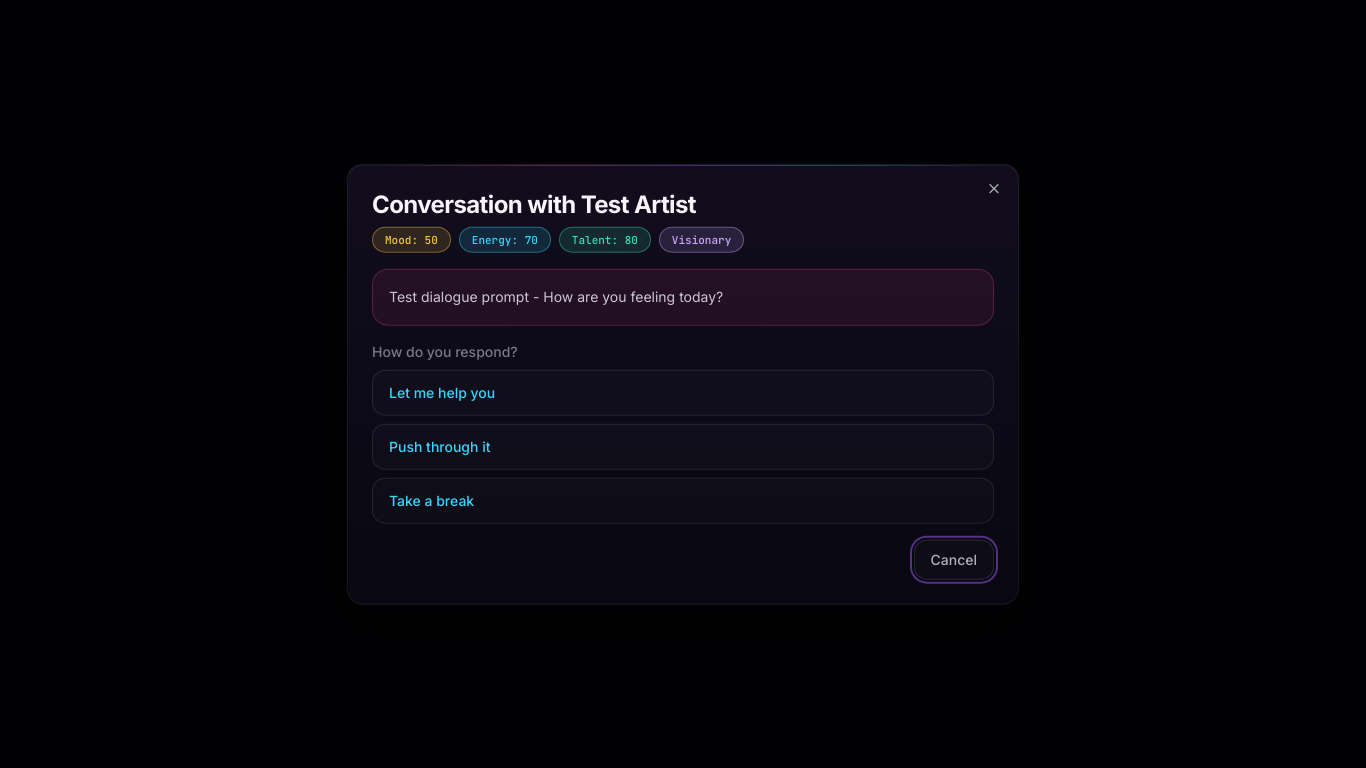
it: ArtistDialogueModal › Complete State › should show success icon and message
This screenshot has width=1366, height=768.
Expected: the text "Let me help you" is shown, [389, 382, 495, 402]
Click the button "Let me help you". click: (442, 392)
box: [372, 369, 994, 415]
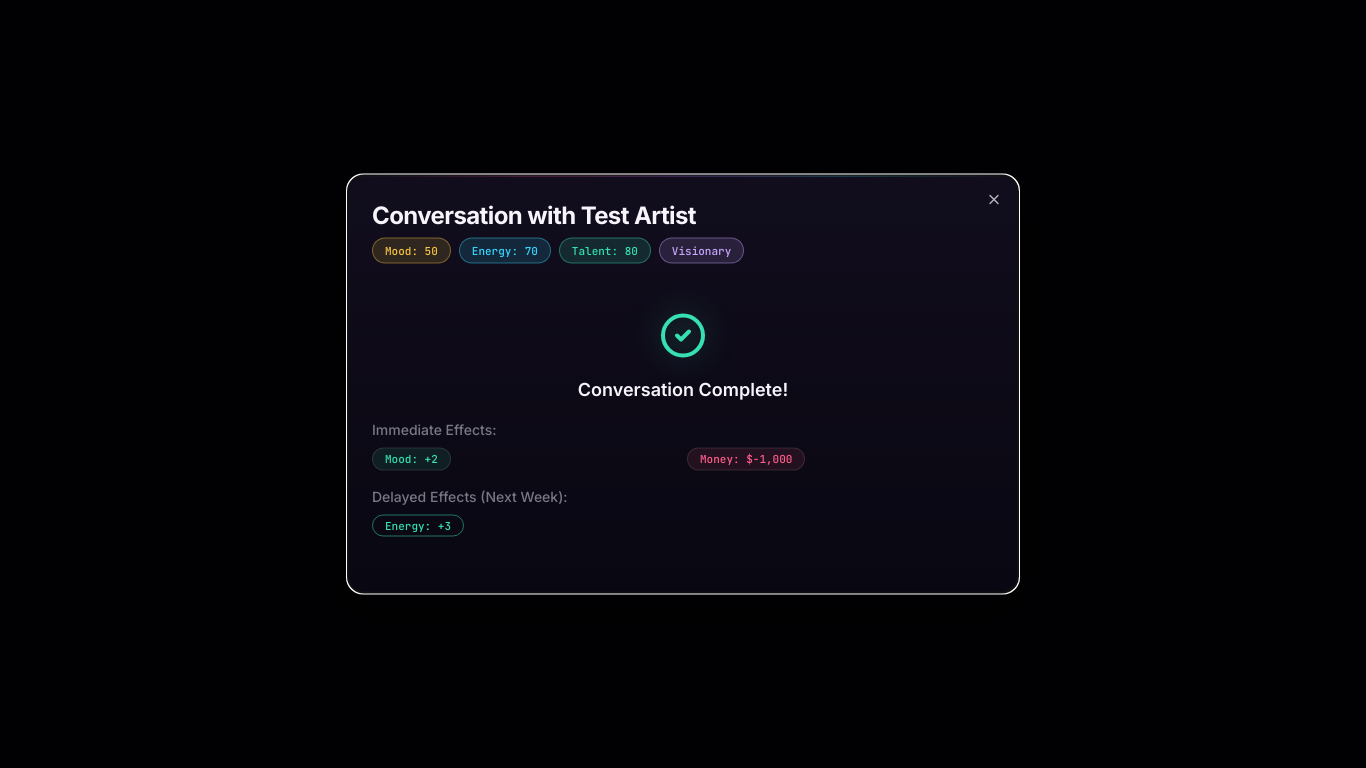
Expected: the text "Conversation Complete!" is shown, [578, 376, 788, 404]
